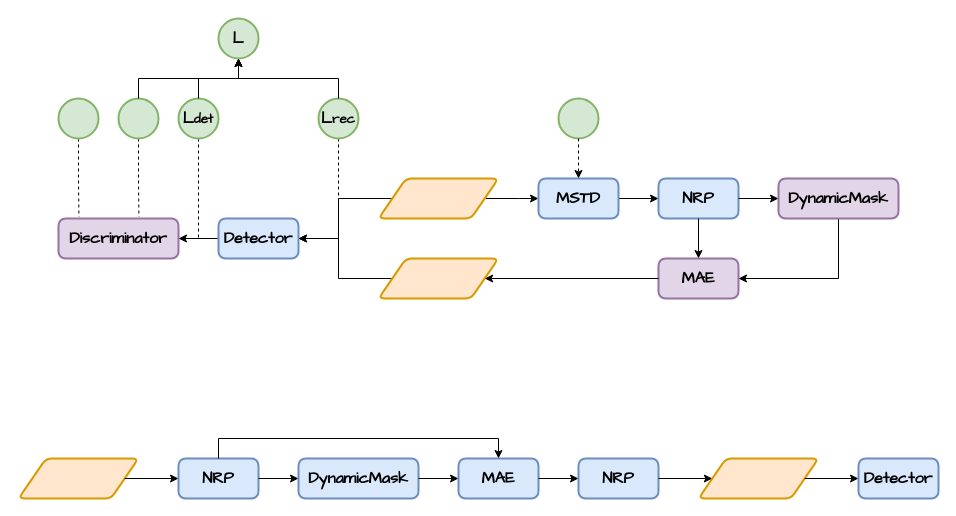
Image size: 956x516. Some labels were removed from this diagram. The centre of each missing label's shape, as x and y in pixels:
IMG purify: point 758,478
IMGadv: point 78,478
IMGraw: point 438,198
IMGrec: point 438,278
L adv: point 578,118
L dis: point 78,118
L dom: point 138,118
